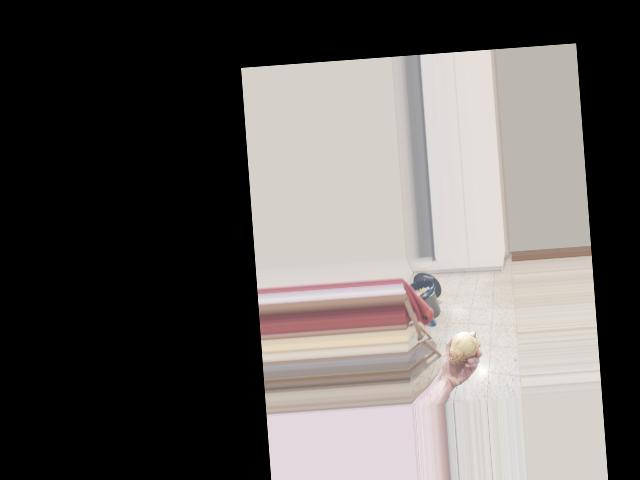onion: (446, 329, 479, 363)
